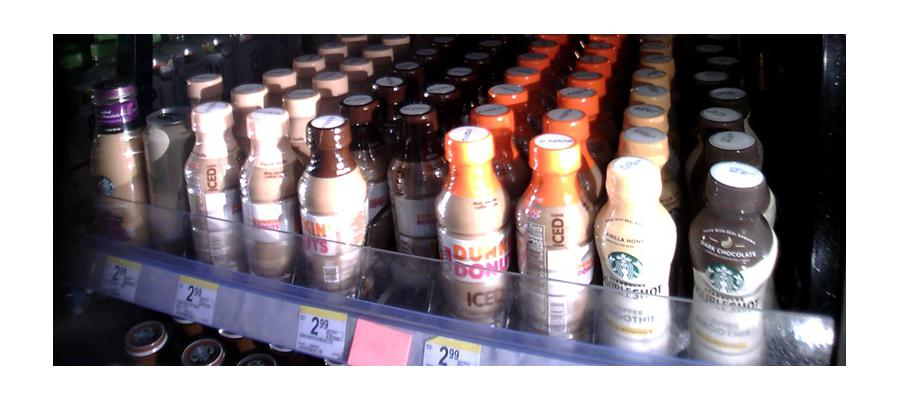bottle: (691, 164, 773, 362), (516, 135, 590, 339), (600, 153, 677, 347), (440, 125, 507, 331), (298, 112, 362, 301), (388, 102, 440, 299), (240, 107, 295, 282), (88, 83, 143, 250), (184, 100, 237, 269), (141, 106, 189, 251)
